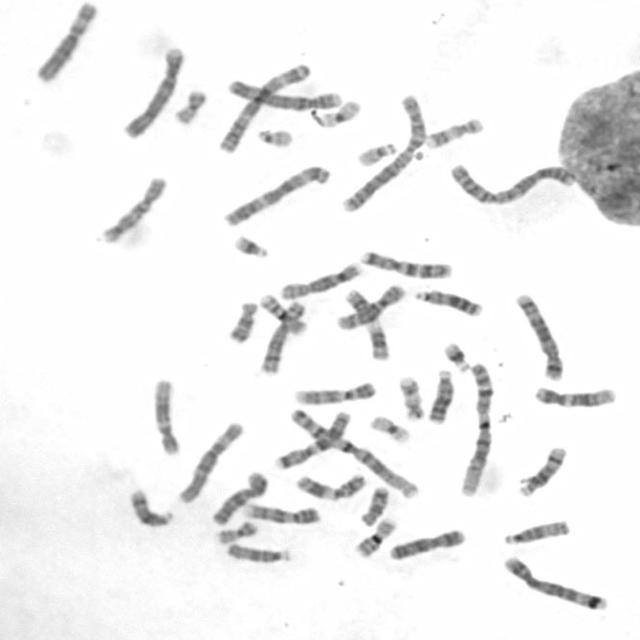A1: (285, 403, 422, 500), (454, 357, 498, 498)
A2: (336, 89, 430, 214), (444, 155, 580, 207)
A3: (214, 56, 315, 154), (218, 158, 334, 228)
B4: (118, 42, 188, 140), (222, 73, 344, 111)
B5: (498, 551, 610, 612), (512, 287, 567, 382)
C10: (97, 170, 170, 245), (332, 279, 407, 331)
C11: (342, 284, 392, 362), (291, 468, 369, 502)
C12: (148, 374, 185, 456), (530, 381, 620, 409)
C6: (173, 416, 246, 504), (30, 0, 100, 84)
C7: (270, 405, 353, 472), (356, 245, 455, 280)
C8: (255, 297, 308, 376), (274, 256, 364, 300)
C9: (290, 377, 380, 406), (238, 498, 324, 526)
D13: (410, 284, 486, 318), (424, 364, 456, 425)
D14: (514, 441, 570, 498), (125, 483, 176, 529)
D15: (498, 515, 572, 546), (222, 538, 295, 564)
E16: (254, 288, 310, 336), (349, 512, 399, 559)
E17: (421, 112, 486, 150), (395, 371, 427, 422)
E18: (223, 296, 260, 344), (356, 482, 391, 527)
F19: (311, 94, 364, 128), (366, 410, 414, 444)
F20: (170, 84, 210, 125), (212, 516, 260, 544)
G21: (228, 230, 272, 260), (438, 337, 474, 373)
G22: (353, 137, 399, 168), (252, 123, 296, 148)
X: (207, 467, 270, 527), (383, 524, 468, 562)
